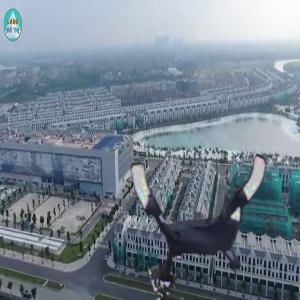drone: (135, 143, 283, 291)
